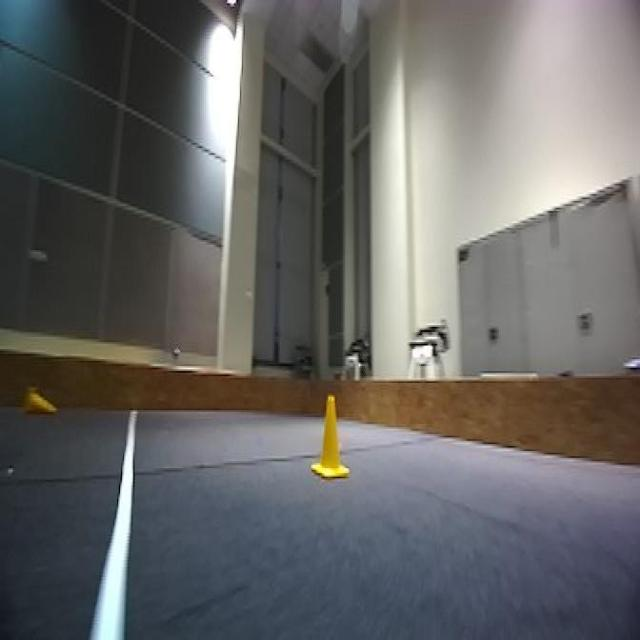frc_cone: (308, 395, 348, 478), (20, 385, 55, 417)
